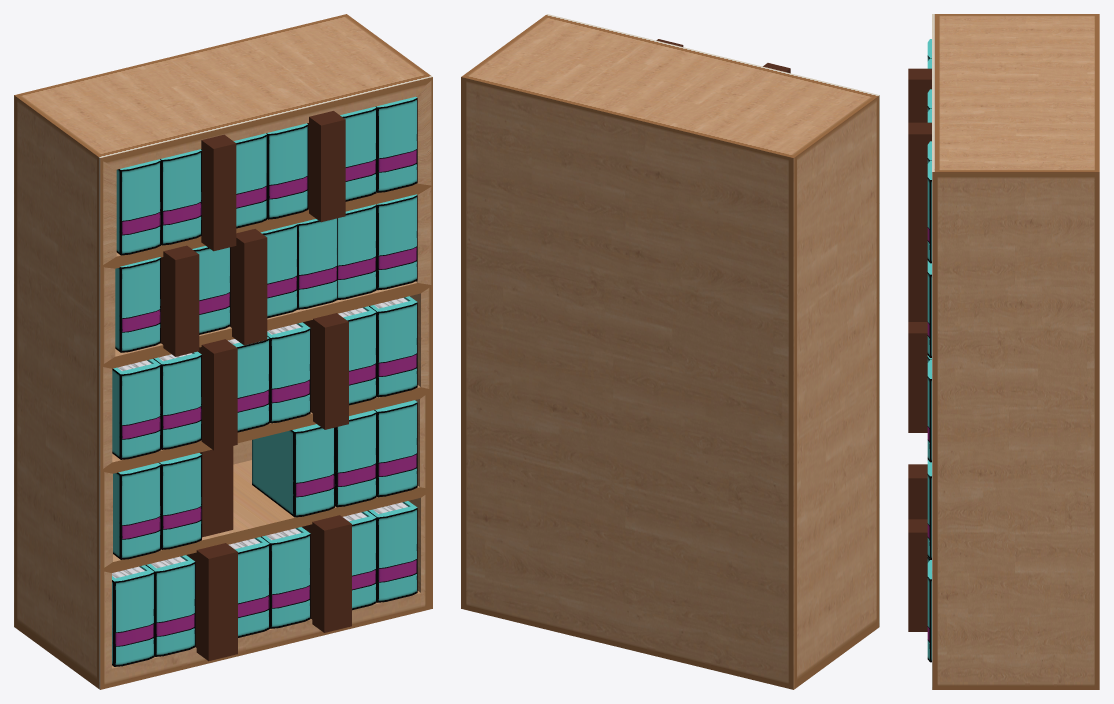
File: Bookshelf_PartialFilled_Blue.fbx
The picture shows the model from 3 angles, left to right: view 1: azimuth 30°, elevation 25°; view 2: azimuth 150°, elevation 25°; view 3: azimuth 270°, elevation 25°; orthographic projection. The views are drawn at different scales.
Visible parts, largest first — view 1: Bookshelf_Blue1; view 2: Bookshelf_Blue1; view 3: Bookshelf_Blue1.
Part boxes in pixels (box(x1,y1,x2,y2)): Bookshelf_Blue1: box(14, 14, 432, 689); Bookshelf_Blue1: box(461, 14, 879, 689); Bookshelf_Blue1: box(908, 14, 1099, 689).
Bounding box in the file's own units: 127 × 194 × 64.92.
